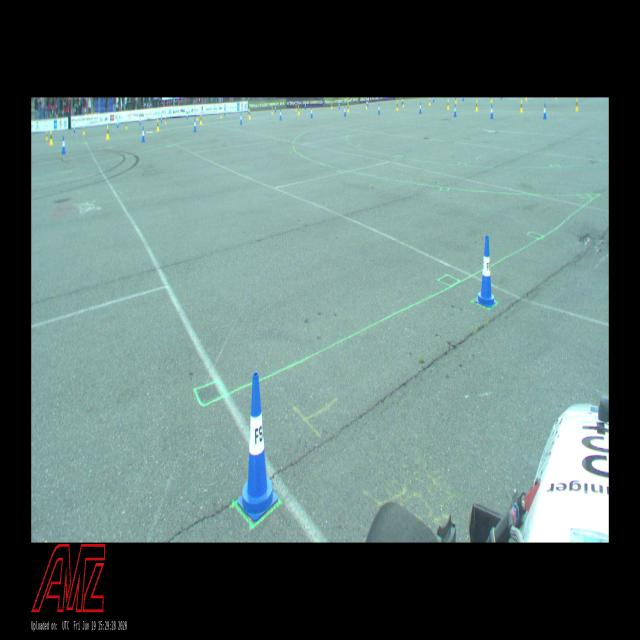blue_cone: (238, 372, 279, 521), (476, 236, 496, 309), (141, 127, 146, 142), (489, 104, 494, 119), (543, 103, 547, 119), (193, 118, 197, 132), (62, 136, 65, 154), (310, 107, 313, 118), (419, 102, 422, 113), (279, 110, 282, 120), (240, 112, 242, 124), (454, 104, 456, 116), (378, 104, 380, 114), (344, 106, 346, 116), (117, 120, 119, 128), (74, 125, 76, 132), (140, 118, 142, 125), (338, 102, 340, 109), (366, 100, 368, 107), (432, 97, 434, 103), (274, 106, 276, 112), (402, 98, 404, 104), (224, 108, 225, 116), (187, 113, 188, 119), (161, 116, 162, 122), (305, 104, 306, 109)
yellow_cone: (106, 125, 110, 139), (575, 98, 579, 111), (50, 130, 53, 144), (156, 120, 160, 130), (475, 100, 478, 111), (164, 115, 167, 124), (520, 99, 522, 112), (428, 97, 431, 105), (447, 99, 449, 109), (200, 115, 202, 124), (46, 131, 48, 140), (396, 101, 398, 110), (249, 110, 251, 119), (298, 106, 300, 114), (126, 121, 128, 129), (347, 104, 349, 112), (83, 127, 85, 134), (402, 100, 404, 107), (331, 102, 333, 109), (272, 107, 274, 114), (220, 112, 222, 118), (196, 114, 198, 120), (490, 98, 493, 102), (454, 97, 456, 103), (296, 105, 297, 112), (366, 102, 367, 108), (348, 102, 348, 105)
